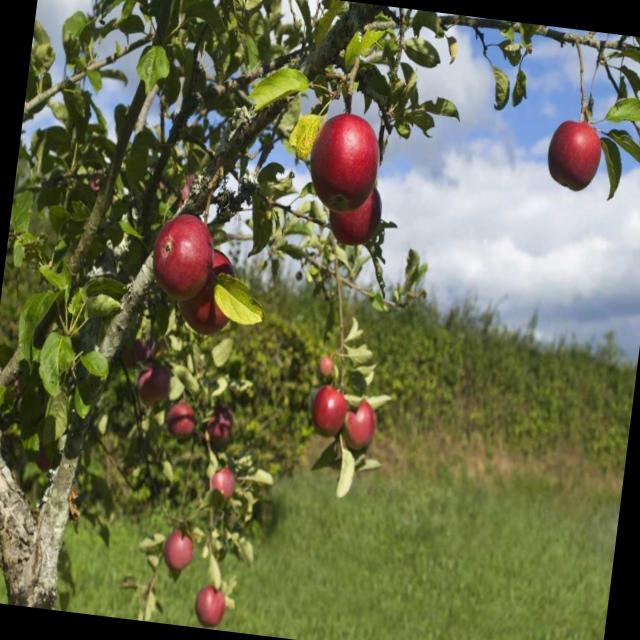apple: (304, 105, 384, 217), (147, 212, 217, 305), (544, 109, 606, 197)
